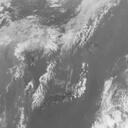cyclone: (23, 30, 89, 102)
